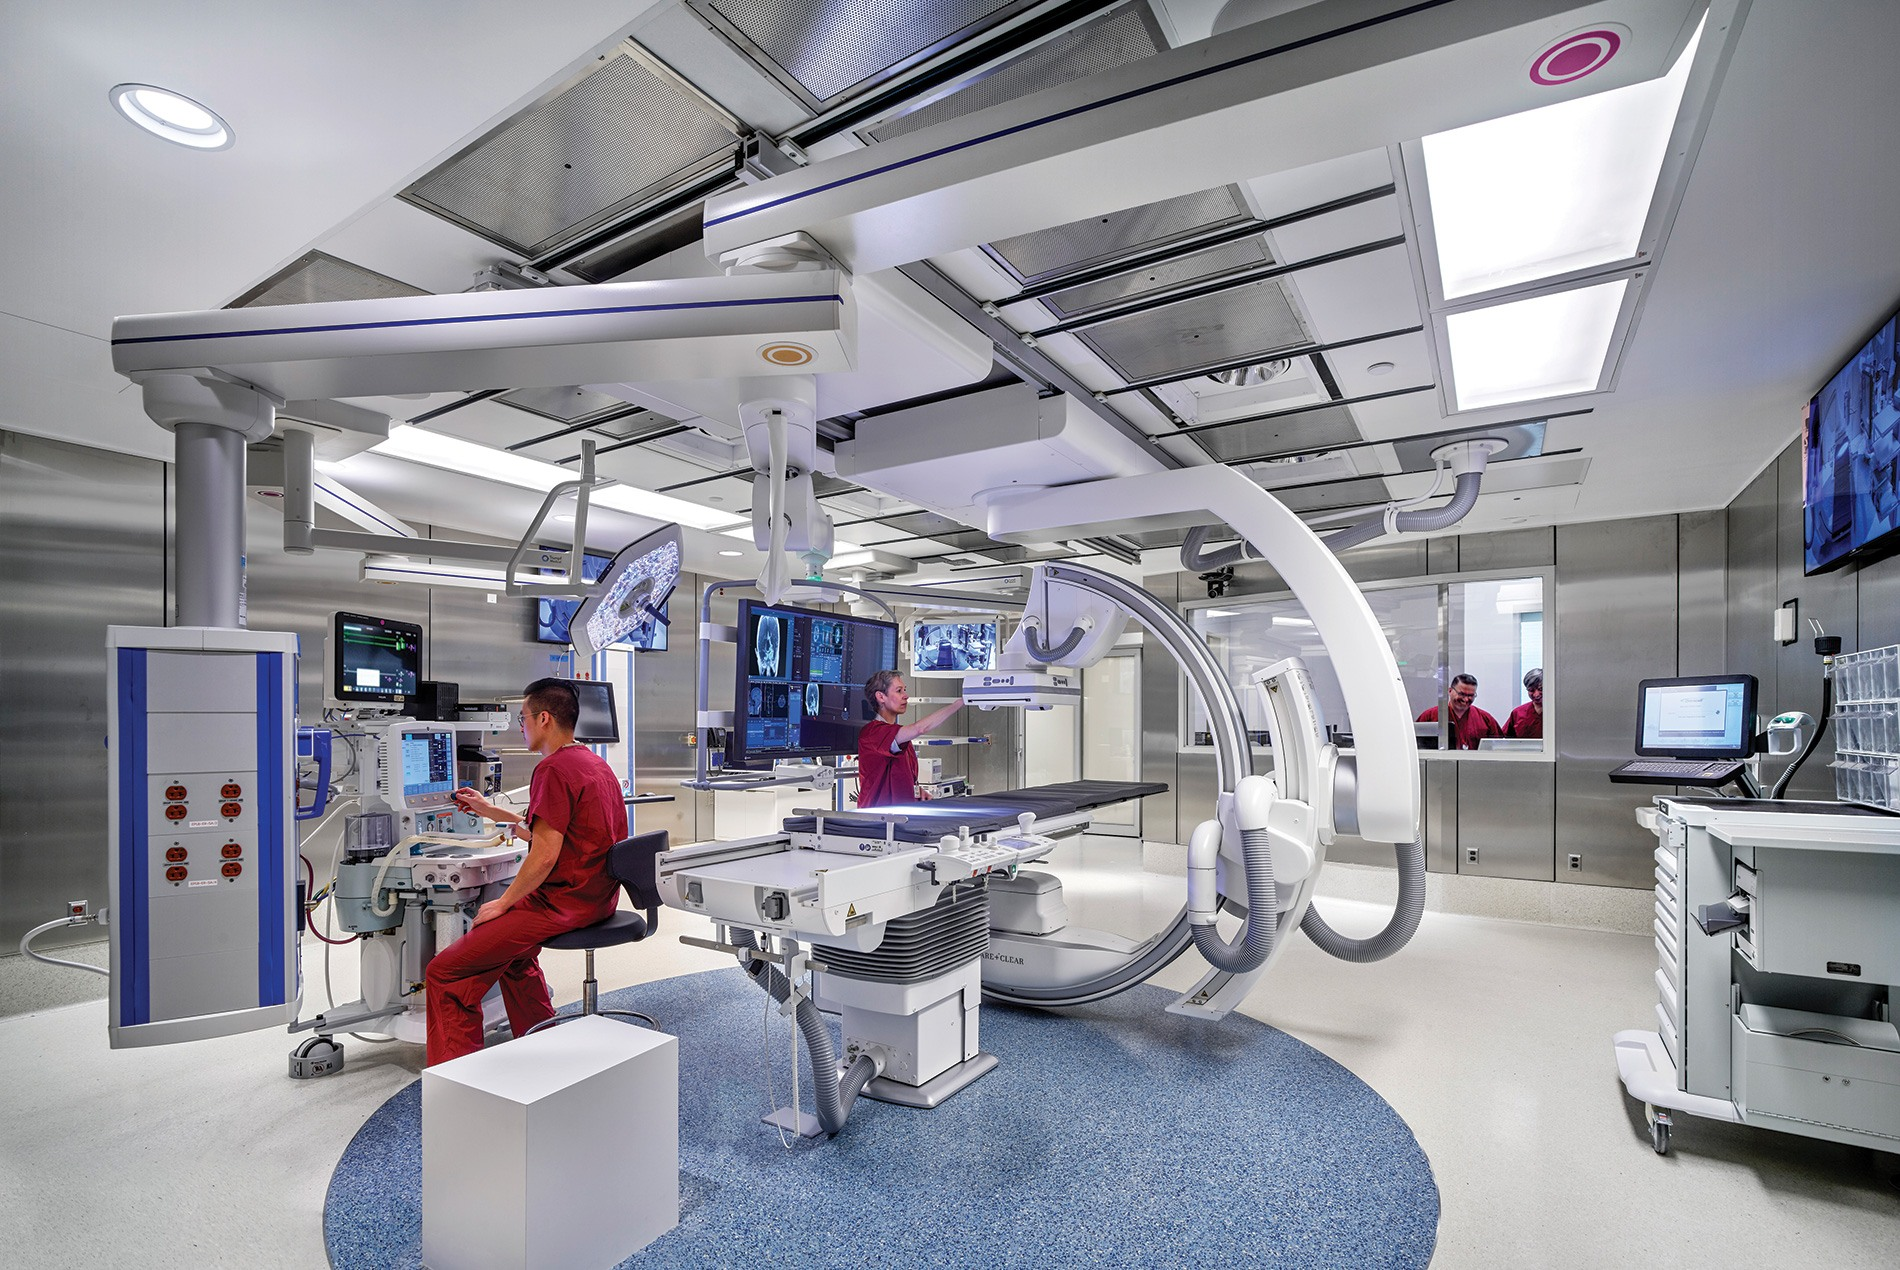TV: (738, 594, 913, 770), (1798, 301, 1900, 585), (911, 617, 1006, 680)
bedside_monitor: (1607, 658, 1822, 792)
chair: (524, 829, 673, 1042)
electrosurgical_unit: (331, 600, 472, 937)
medical_drawer: (1613, 791, 1717, 1162)
operating_bed: (657, 779, 1171, 1137)
staff: (423, 681, 630, 1073), (853, 664, 967, 816), (1410, 666, 1503, 751), (1506, 662, 1565, 742)
surgical_light: (567, 518, 683, 659)
